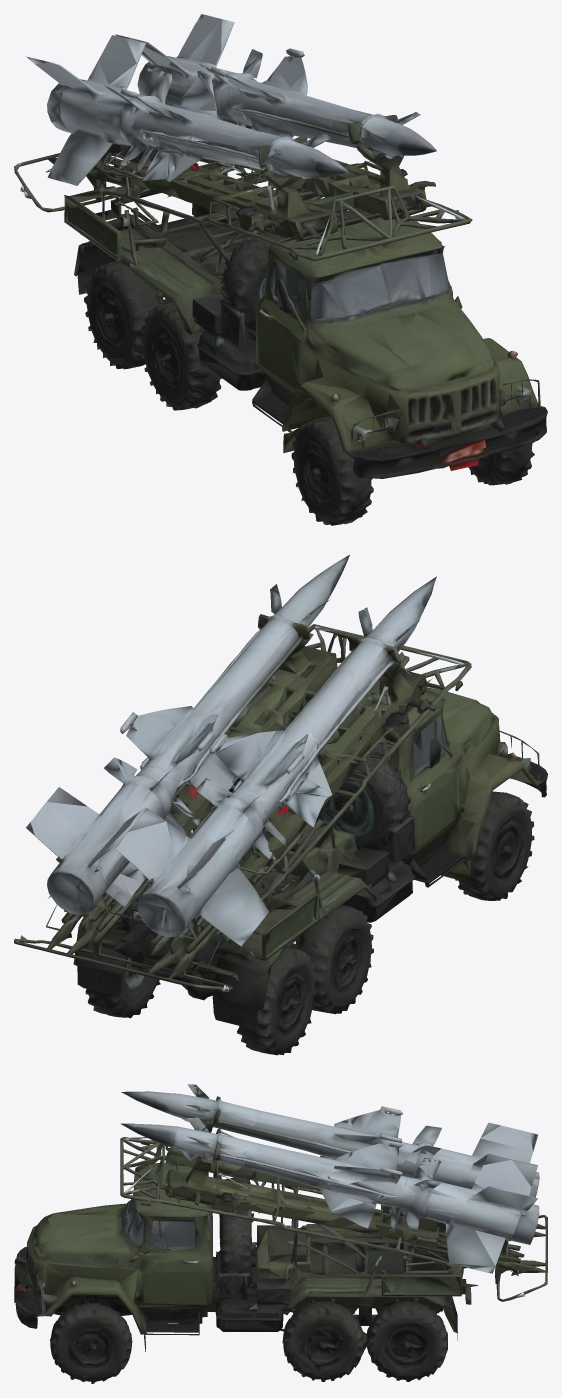
The model's file is xe-tzm.glb.
3 renders of one model, top to bottom at view 1: azimuth 30°, elevation 25°; view 2: azimuth 150°, elevation 25°; view 3: azimuth 270°, elevation 25°, orthographic. The views are drawn at different scales.
Visible parts, largest first — view 1: tripo_node_72fad05a; view 2: tripo_node_72fad05a; view 3: tripo_node_72fad05a.
Boxes of the visible parts, x1=… form: tripo_node_72fad05a: x1=14, y1=14, x2=547, y2=525; tripo_node_72fad05a: x1=14, y1=555, x2=547, y2=1055; tripo_node_72fad05a: x1=14, y1=1084, x2=547, y2=1383.
Bounding box in the file's own units: 3.58 × 5.42 × 10.8.
1 material, 1 textured.
